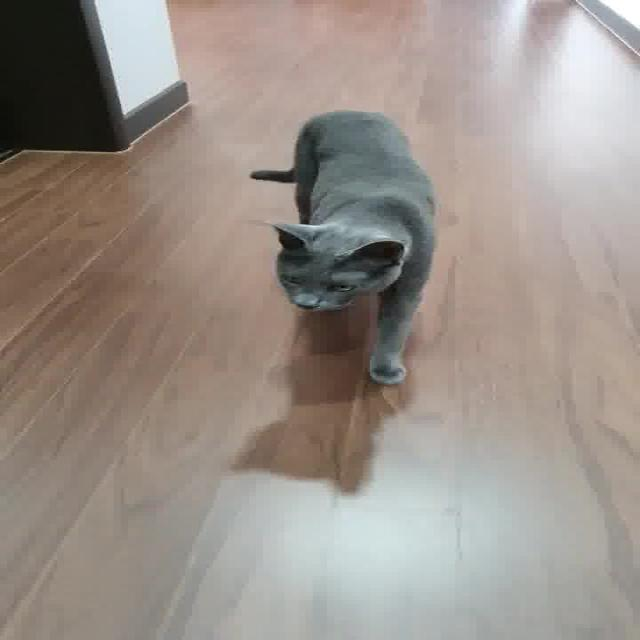cat: (203, 97, 504, 398)
